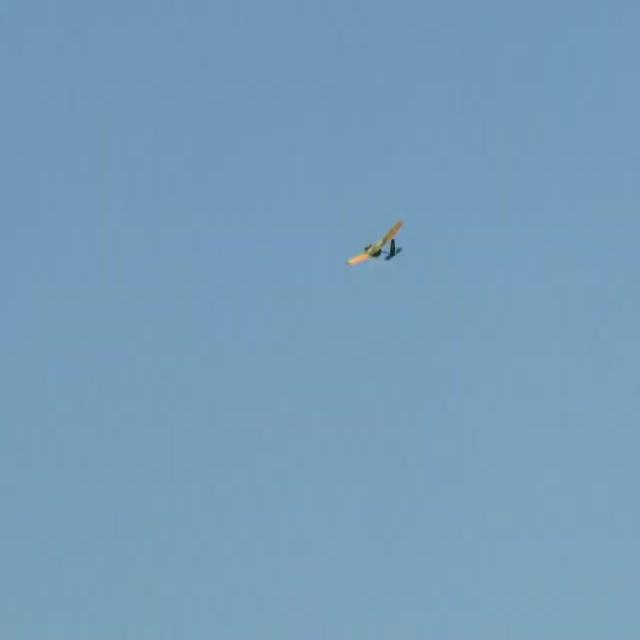iha: (345, 219, 405, 267)
